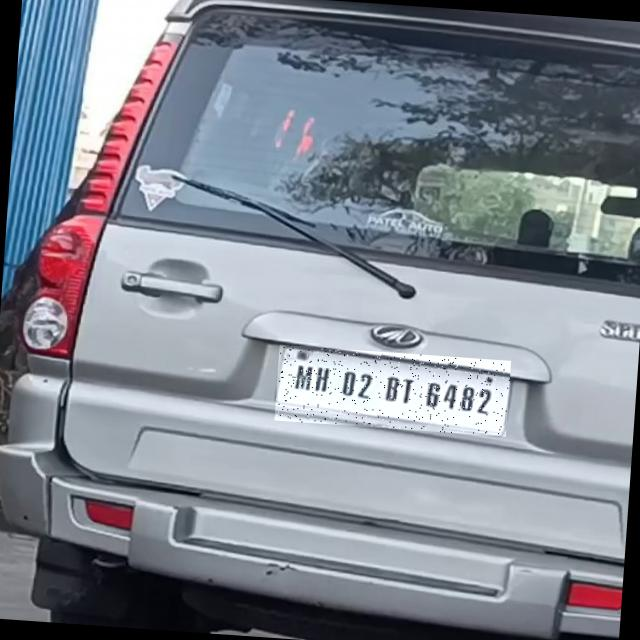Plate: (275, 345, 512, 437)
